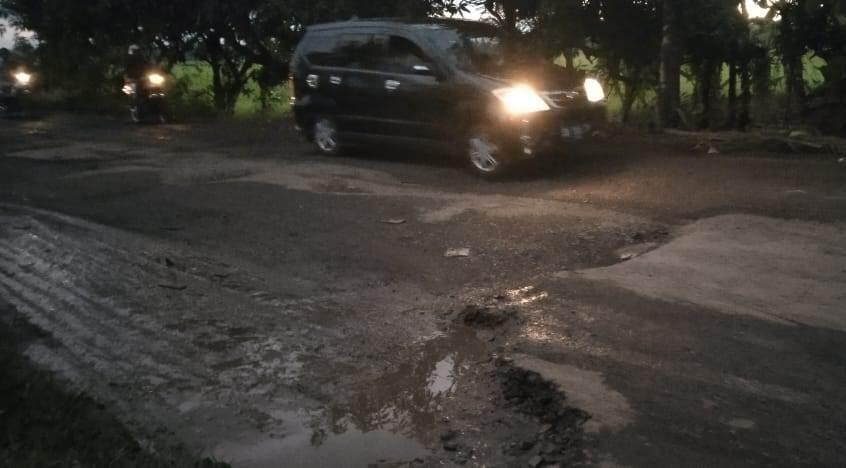Pothole: (66, 268, 644, 468), (0, 116, 127, 190), (288, 150, 409, 213), (159, 158, 286, 205)
